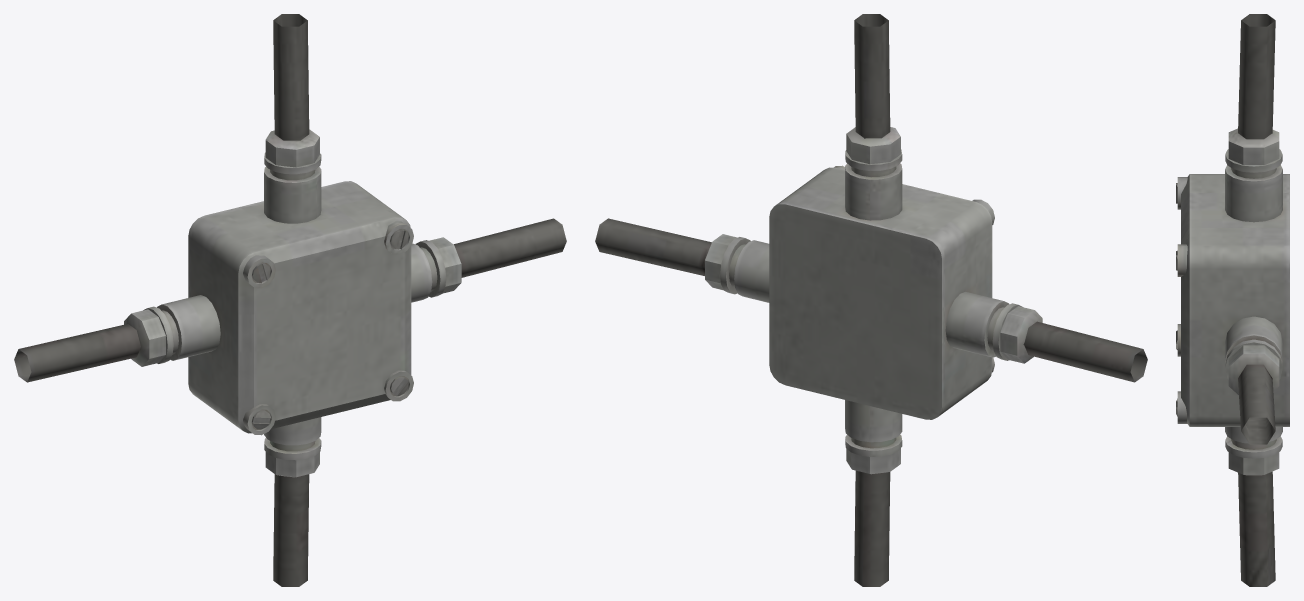
Rendered from cable_box_4way.gltf.
3 renders of one model, left to right at view 1: azimuth 30°, elevation 25°; view 2: azimuth 150°, elevation 25°; view 3: azimuth 270°, elevation 25°, orthographic.
Visible parts, largest first — view 1: cable_box_4way; view 2: cable_box_4way; view 3: cable_box_4way.
Boxes of the visible parts, bbox=[...] form: cable_box_4way: bbox=[14, 14, 566, 586]; cable_box_4way: bbox=[595, 14, 1147, 586]; cable_box_4way: bbox=[1176, 14, 1289, 586].
Bounding box in the file's own units: 0.2 × 0.2 × 0.0369.
Materials: 1 (1 with a texture image).
